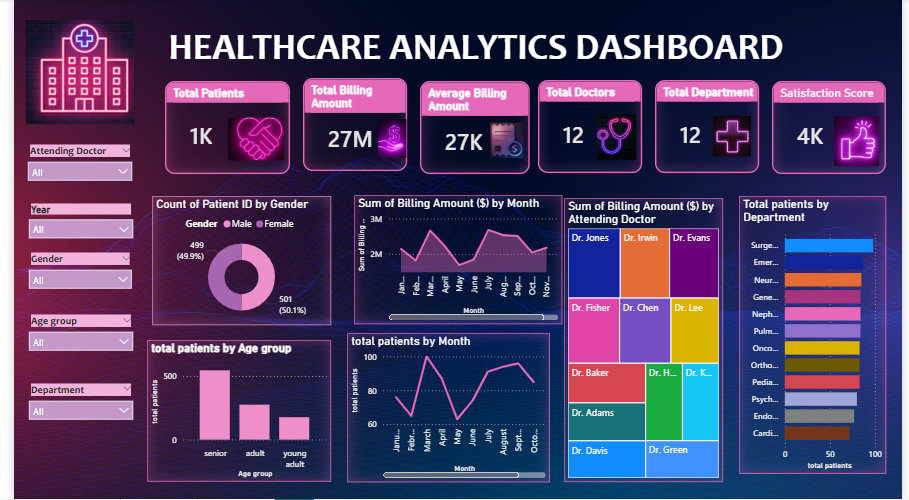

What the dashboard file says about the page in this screenshot:
{"tool":"powerbi","page":{"name":"Page 2","canvas":[1280,720],"ordinal":0},"visuals":[{"type":"donutChart","fields":{"Category":["Patient Data.Gender"],"Y":["CountNonNull(Patient Data.Patient ID)"]},"box":[198.7,283.7,257.8,185.8],"z":0},{"type":"textbox","box":[1118.9,47.5,13,59],"z":1000},{"type":"columnChart","fields":{"Category":["Patient Data.Age group"],"Y":["Patient Data.total patients"]},"box":[191.5,491,265,204.5],"z":2000},{"type":"clusteredBarChart","title":"Total patients by Department","fields":{"Category":["Patient Data.Department"],"Y":["Patient Data.total patients"]},"box":[1044,283.7,211.7,400.3],"z":3000},{"type":"treemap","fields":{"Group":["Patient Data.Attending Doctor"],"Values":["Sum(Patient Data.Billing Amount ($))"]},"box":[792,286.6,229,409],"z":4000},{"type":"lineChart","fields":{"Y":["Patient Data.total patients"],"Category":["Patient Data.Admission Date.Variation.Date Hierarchy.Month"]},"box":[479.5,481,292.3,214.6],"z":5000},{"type":"areaChart","fields":{"Category":["Patient Data.Admission Date.Variation.Date Hierarchy.Month"],"Y":["Sum(Patient Data.Billing Amount ($))"]},"box":[490,282.5,300,186.2],"z":6000},{"type":"slicer","fields":{"Values":["Patient Data.Gender"]},"box":[11.5,360,168.5,77.8],"z":7000},{"type":"slicer","fields":{"Values":["Patient Data.Department"]},"box":[11.5,548.6,169.9,89.3],"z":8000},{"type":"slicer","fields":{"Values":["Patient Data.Attending Doctor"]},"box":[10.1,204.5,169.9,82.1],"z":9000},{"type":"slicer","fields":{"Values":["Patient Data.Age group"]},"box":[11.5,449.3,169.9,83.5],"z":10000},{"type":"cardVisual","title":"Total Patients","fields":{"Data":["Patient Data.total patients"]},"box":[217.4,118.1,180,133.9],"z":11000},{"type":"cardVisual","title":"Total Billing Amount","fields":{"Data":["Patient Data.TOTAL BILLING"]},"box":[416.4,113.8,149.8,133.9],"z":12000},{"type":"cardVisual","title":"Average Billing Amount","fields":{"Data":["Patient Data.Avg Billing"]},"box":[584.6,118.1,158.4,133.9],"z":13000},{"type":"cardVisual","title":"Total Doctors","fields":{"Data":["Count(Patient Data.Attending Doctor)"]},"box":[754,116.6,149.8,133.9],"z":14000},{"type":"cardVisual","title":"Total Department","fields":{"Data":["Count(Patient Data.Department)"]},"box":[922.8,116.6,149.8,133.9],"z":15000},{"type":"cardVisual","title":"Satisfaction Score","fields":{"Data":["Sum(Patient Data.Satisfaction Score)"]},"box":[1091.5,118.1,164.2,133.9],"z":16000},{"type":"image","box":[10.1,30.2,169.9,149.8],"z":17000},{"type":"textbox","box":[217.4,30.2,933.1,74.9],"z":18000},{"type":"image","box":[308.2,168.5,80.6,66.2],"z":19000},{"type":"image","box":[524.2,172.8,41.8,56.2],"z":20000},{"type":"image","box":[828,165.6,79.2,66.2],"z":21000},{"type":"image","box":[999.4,168.5,69.1,57.6],"z":22000},{"type":"image","box":[1170.7,168.5,85,72],"z":23000},{"type":"slicer","fields":{"Values":["Patient Data.Year"]},"box":[11.5,289.4,169.9,70.6],"z":24000},{"type":"image","box":[685.4,167,47.5,73.4],"z":25000}]}

Visuals, with their boxes in screenshot pixels (x1, y1, x2, y2), scaled from the page's 1280x720 canvas onto the 909x500 screenshot:
donutChart - Patient Data.Gender x CountNonNull(Patient Data.Patient ID): bbox=(141, 197, 324, 326)
textbox: bbox=(795, 33, 804, 74)
columnChart - Patient Data.Age group x Patient Data.total patients: bbox=(136, 341, 324, 483)
"Total patients by Department" clusteredBarChart: bbox=(741, 197, 892, 475)
treemap - Patient Data.Attending Doctor x Sum(Patient Data.Billing Amount ($)): bbox=(562, 199, 725, 483)
lineChart - Patient Data.total patients x Patient Data.Admission Date.Variation.Date Hierarchy.Month: bbox=(341, 334, 548, 483)
areaChart - Patient Data.Admission Date.Variation.Date Hierarchy.Month x Sum(Patient Data.Billing Amount ($)): bbox=(348, 196, 561, 325)
slicer - Patient Data.Gender: bbox=(8, 250, 128, 304)
slicer - Patient Data.Department: bbox=(8, 381, 129, 443)
slicer - Patient Data.Attending Doctor: bbox=(7, 142, 128, 199)
slicer - Patient Data.Age group: bbox=(8, 312, 129, 370)
"Total Patients" cardVisual: bbox=(154, 82, 282, 175)
"Total Billing Amount" cardVisual: bbox=(296, 79, 402, 172)
"Average Billing Amount" cardVisual: bbox=(415, 82, 528, 175)
"Total Doctors" cardVisual: bbox=(535, 81, 642, 174)
"Total Department" cardVisual: bbox=(655, 81, 762, 174)
"Satisfaction Score" cardVisual: bbox=(775, 82, 892, 175)
image: bbox=(7, 21, 128, 125)
textbox: bbox=(154, 21, 817, 73)
image: bbox=(219, 117, 276, 163)
image: bbox=(372, 120, 402, 159)
image: bbox=(588, 115, 644, 161)
image: bbox=(710, 117, 759, 157)
image: bbox=(831, 117, 892, 167)
slicer - Patient Data.Year: bbox=(8, 201, 129, 250)
image: bbox=(487, 116, 520, 167)
